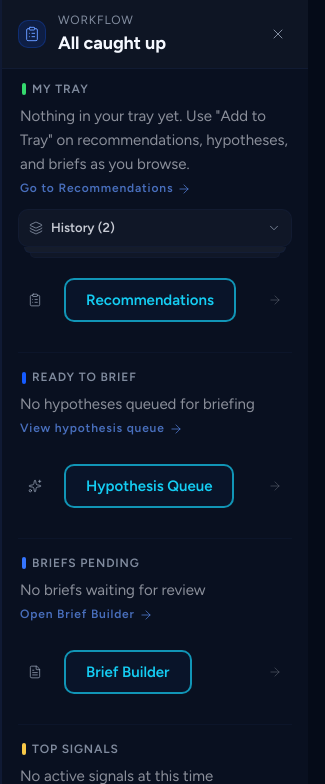
Test case: TaskTray: My Tray section › history is never deleted · both done and archived items are listed
Click the button "History (2)": click(83, 228) [18,210,292,247]
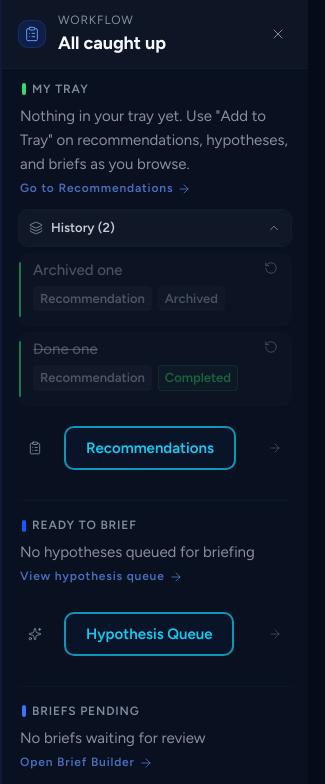
Now the text "Done one" is shown, box [33,340,98,358]
Now the text "Archived one" is shown, box [33,261,122,279]
